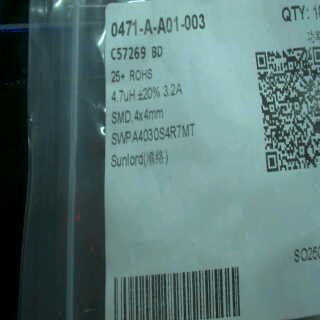4.7uH: (109, 84, 138, 107)
